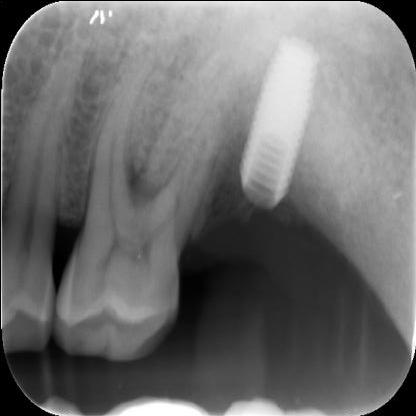Bicon: (226, 30, 322, 214)
